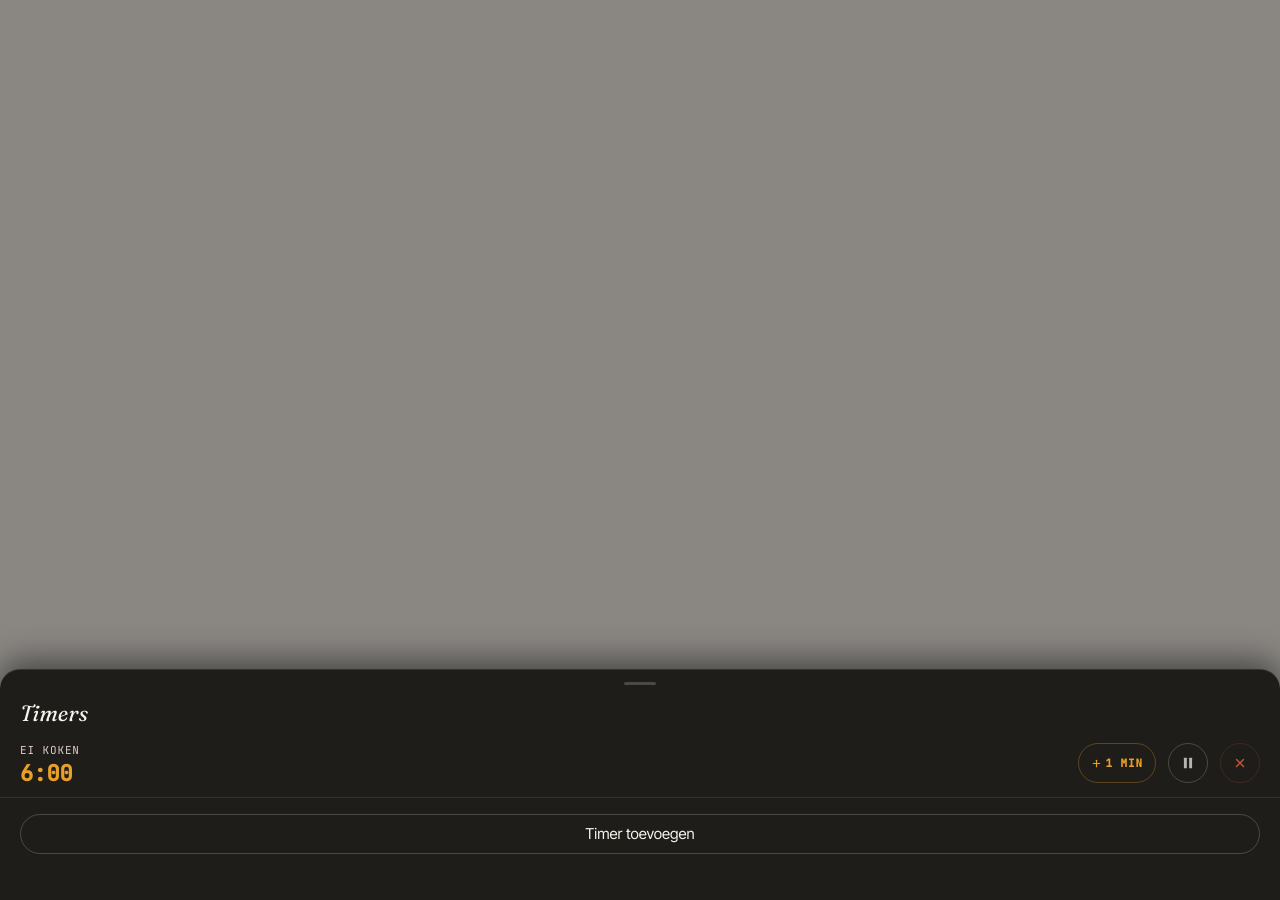
Test case: TimerSheet › dismiss › removes the timer when dismiss is clicked
Click the button named "Timer verwijderen" at (1240, 763), box top-left (1220, 743), bottom-right (1260, 783)
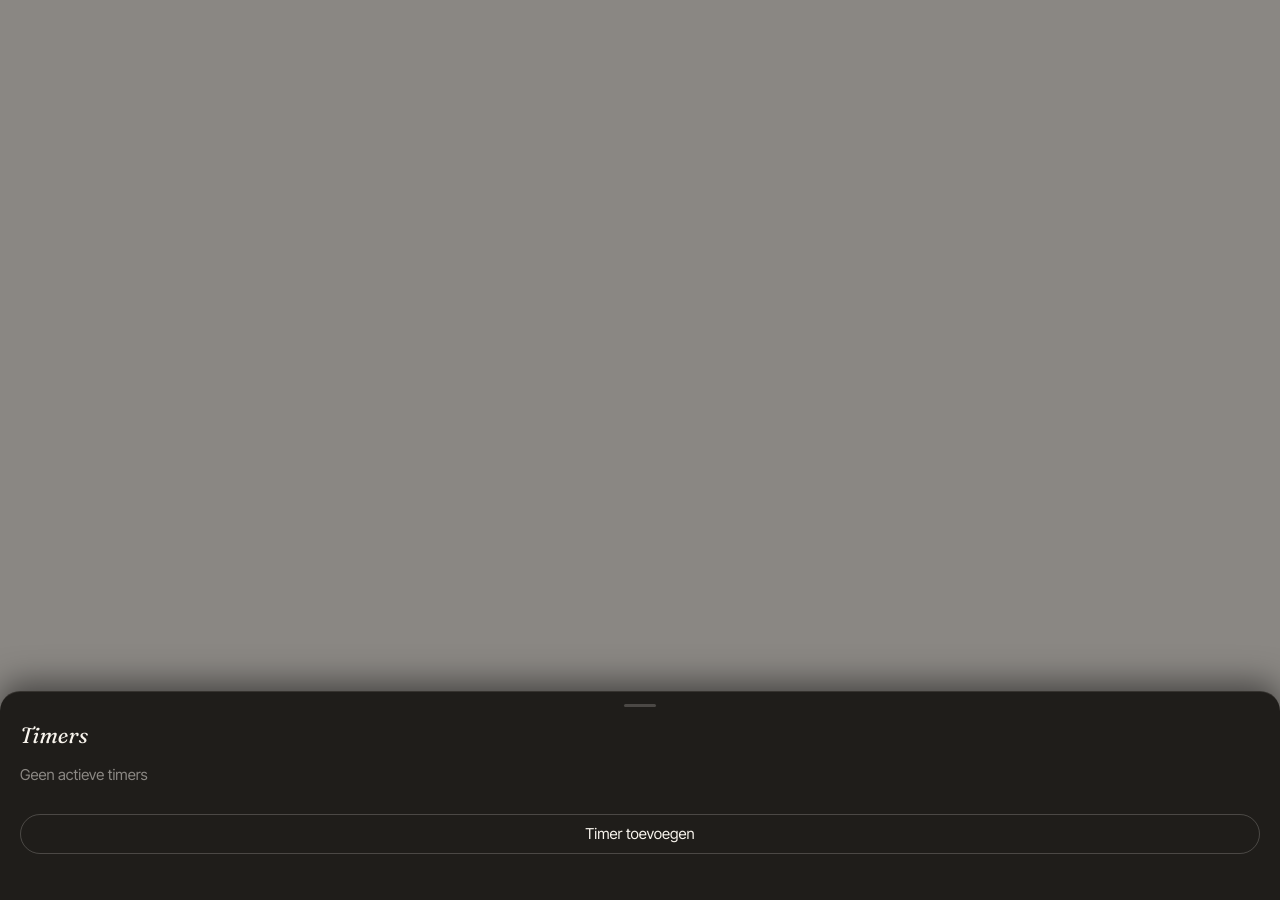
Expected: the text "ei koken" is gone
